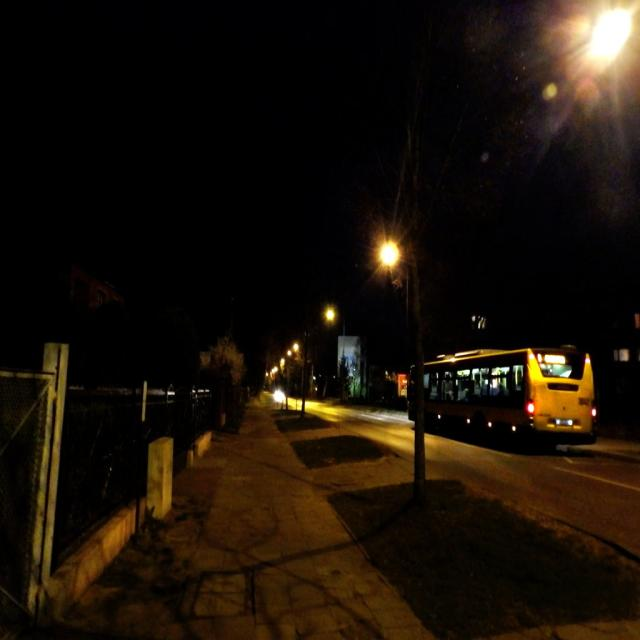Bus: (404, 327, 608, 487)
